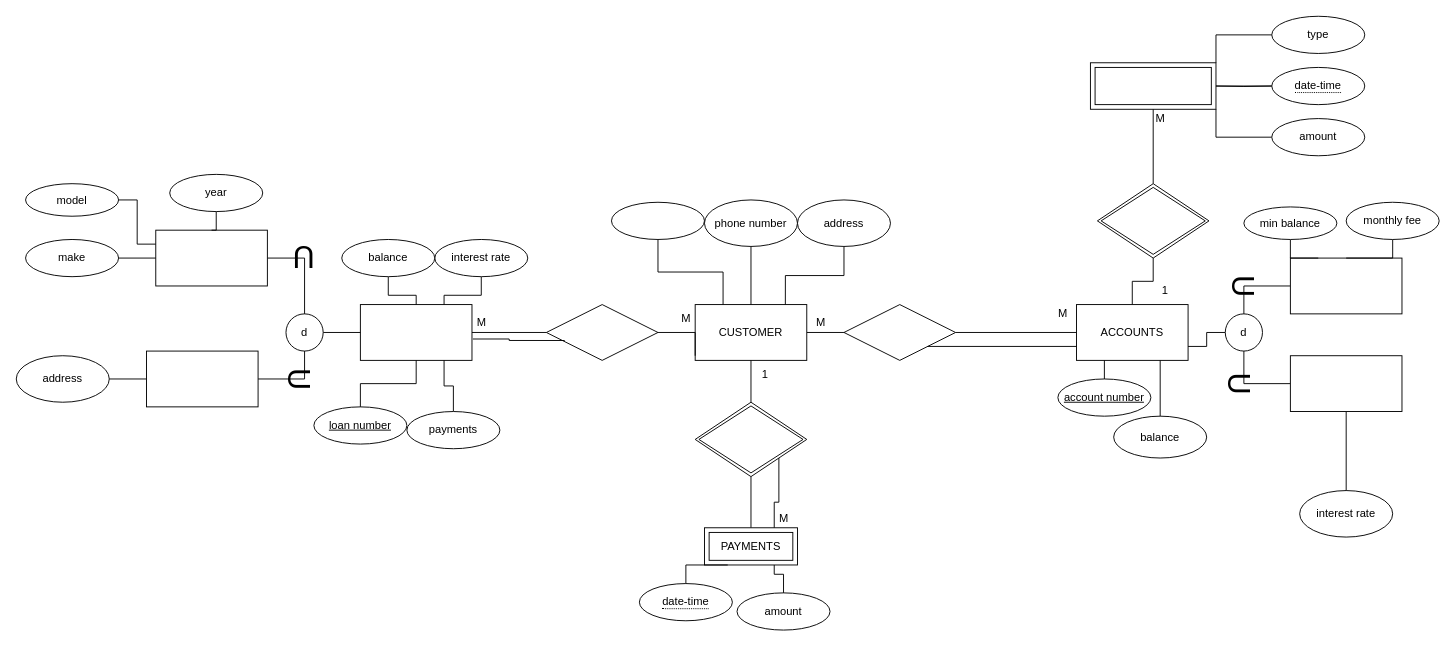
This 1455x646 diagram has some shape labels left out. Each missing label, with the box of its shape:
BORROW: (545, 304, 658, 360)
CAR LOAN: (155, 229, 267, 286)
CHEQUING: (1289, 257, 1402, 314)
HAS: (1096, 183, 1209, 258)
HOME MORTGAGE: (146, 350, 258, 407)
LOANS: (359, 304, 472, 360)
MAKES: (694, 401, 807, 477)
OWNS: (843, 304, 956, 360)
SAVING: (1289, 355, 1402, 412)
sin: (611, 201, 704, 239)
TRANSACTIONS: (1089, 62, 1216, 109)
